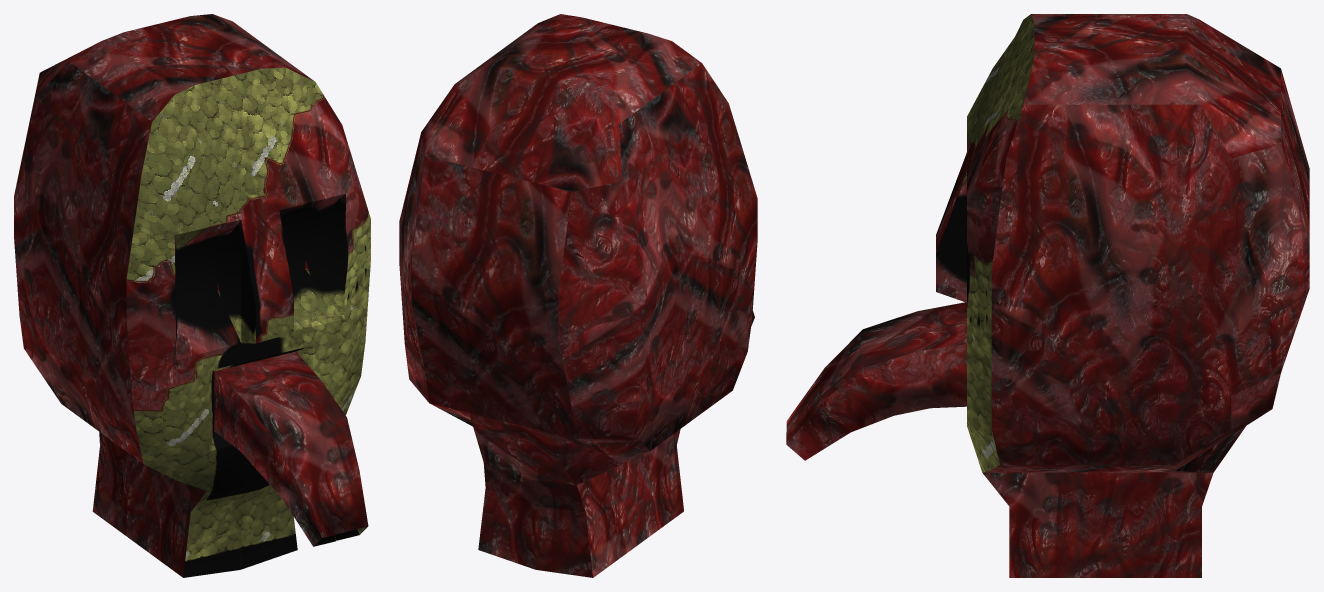
Rendered from yesfbx.FBX.
The picture shows the model from 3 angles, left to right: view 1: azimuth 30°, elevation 25°; view 2: azimuth 150°, elevation 25°; view 3: azimuth 270°, elevation 25°; orthographic projection. The views are drawn at different scales.
Visible parts, largest first — view 1: Box002; view 2: Box002; view 3: Box002.
Part boxes in pixels (x1,y1,x2,y2): Box002: [14, 14, 370, 577]; Box002: [399, 14, 757, 577]; Box002: [786, 14, 1309, 577].
Bounding box in the file's own units: 24.67 × 46.75 × 43.04.
2 materials, 2 textured.
